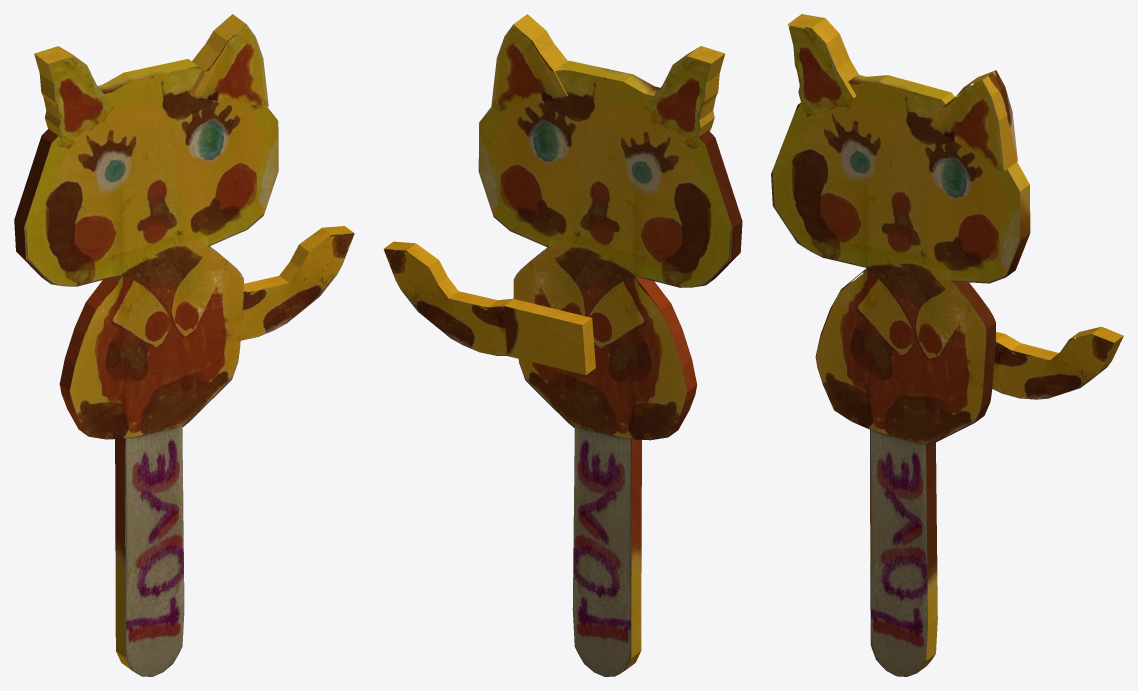
Rendered from personaje2.fbx.
The picture shows the model from 3 angles, left to right: view 1: azimuth 30°, elevation 25°; view 2: azimuth 150°, elevation 25°; view 3: azimuth 330°, elevation 25°; orthographic projection. The views are drawn at different scales.
Parts seen in each view (by area): view 1: Plane.001; view 2: Plane.001; view 3: Plane.001.
Part boxes in pixels (box(x1,y1,x2,y2)): Plane.001: box(14, 14, 354, 676); Plane.001: box(383, 14, 742, 676); Plane.001: box(771, 14, 1123, 676).
Bounding box in the file's own units: 97.78 × 177 × 11.54.
1 material, 1 textured.
